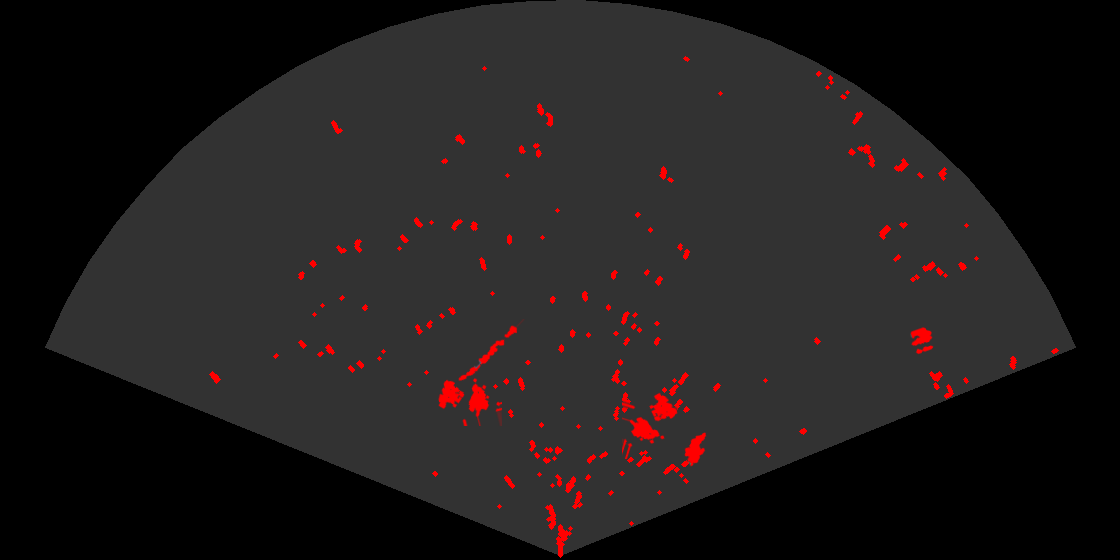AUV: (683, 431, 708, 468)
ball: (909, 325, 935, 356)
cage: (622, 391, 679, 459), (437, 376, 502, 426)
chain: (457, 319, 526, 383)
